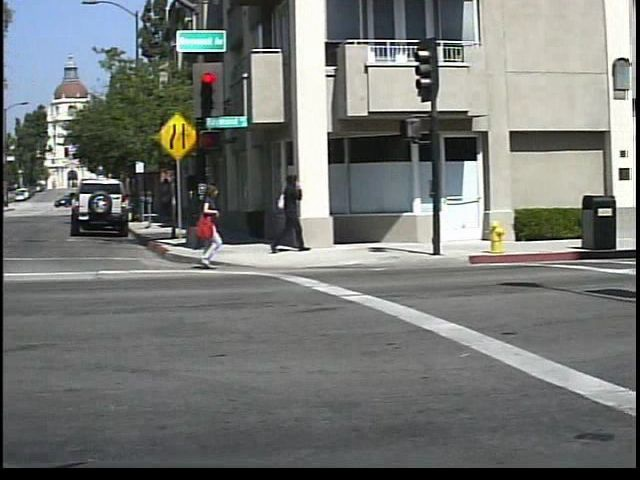person: (191, 178, 242, 269), (277, 168, 319, 254)
